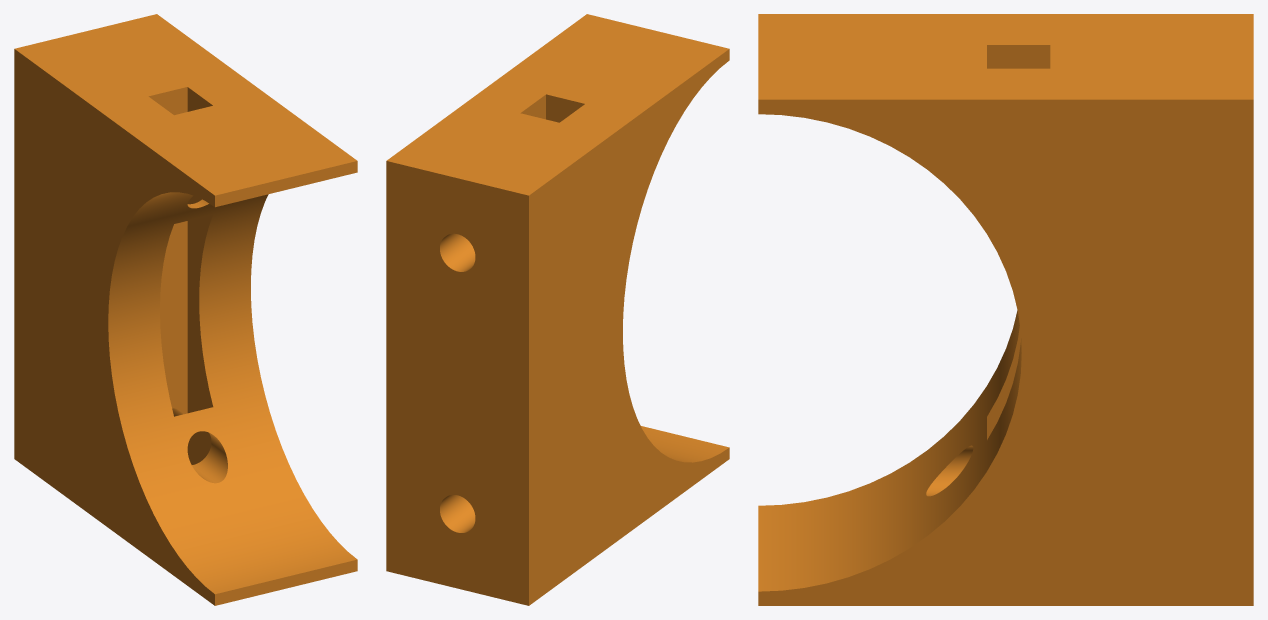
File: mag_presilha.glb
3 views of the same model, side by side, from view 1: azimuth 30°, elevation 25°; view 2: azimuth 150°, elevation 25°; view 3: azimuth 270°, elevation 25° (orthographic). The views are drawn at different scales.
Visible parts, largest first — view 1: mag_presilha; view 2: mag_presilha; view 3: mag_presilha.
Part boxes in pixels (box(x1,y1,x2,y2)): mag_presilha: box(14, 14, 357, 605); mag_presilha: box(386, 14, 729, 605); mag_presilha: box(758, 14, 1253, 605).
Bounding box in the file's own units: 16 × 44 × 39.
